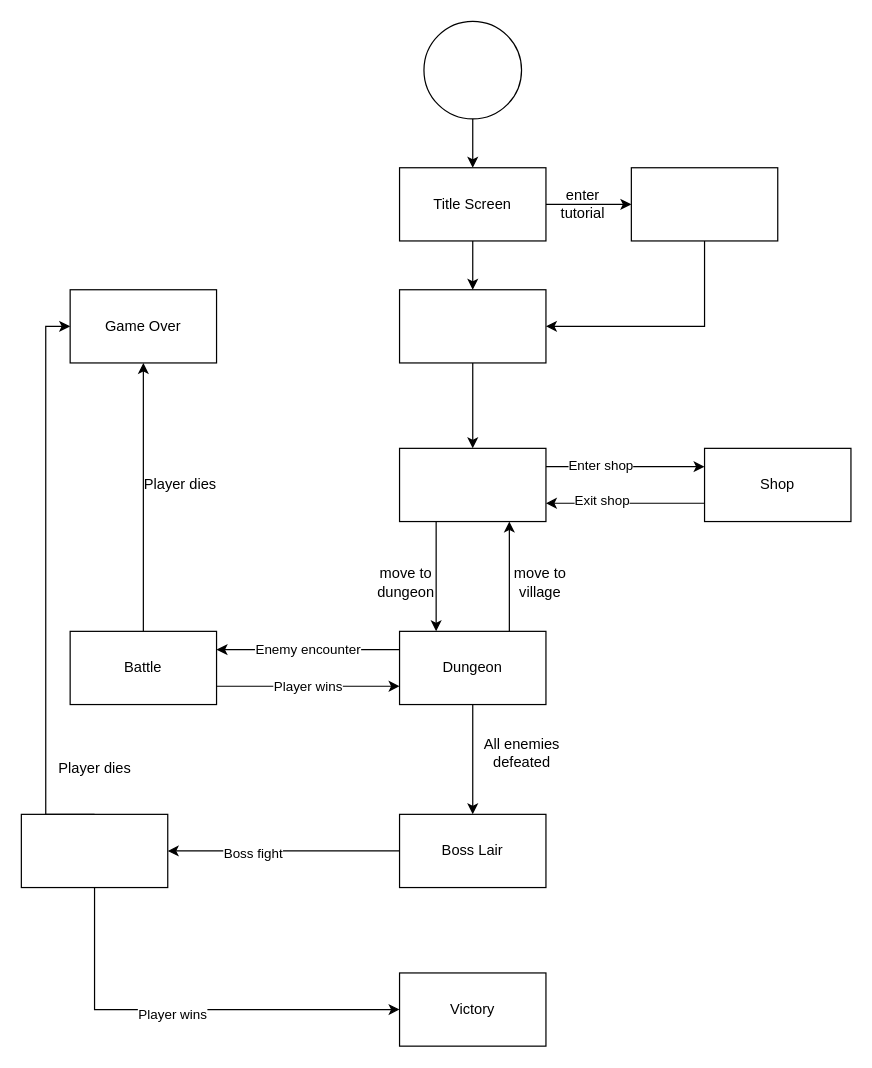
The diagram is 872 pixels wide and 1068 high, and some of its shapes have lost their labels. The centre of each missing label's shape, as x and y in pixels:
Boss Battle: point 94,850
Character Selection: point 472,326
Tutorial: point 704,204
Village: point 472,484
